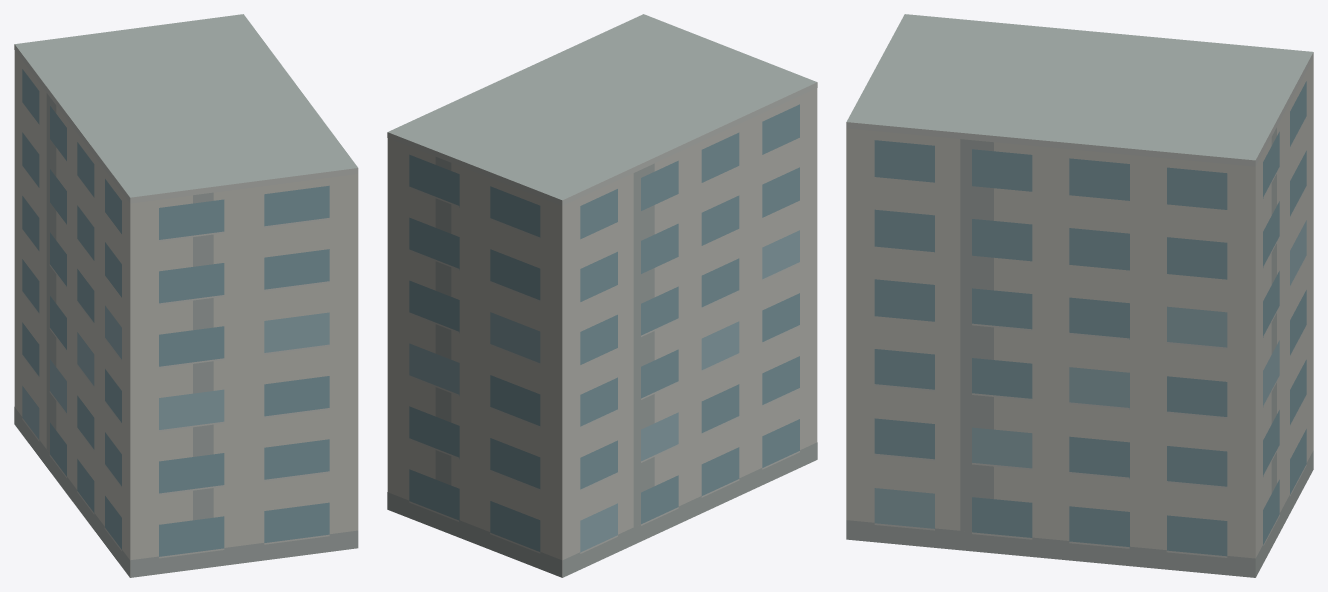
Rendered from survey-upis-32891693.glb.
The picture shows the model from 3 angles, left to right: view 1: azimuth 30°, elevation 25°; view 2: azimuth 150°, elevation 25°; view 3: azimuth 270°, elevation 25°; orthographic projection. The views are drawn at different scales.
Parts seen in each view (by area): view 1: survey-upis-32891693.tmp; view 2: survey-upis-32891693.tmp; view 3: survey-upis-32891693.tmp.
Boxes of the visible parts, x1,y1,x2,y2 form: survey-upis-32891693.tmp: (14, 14, 358, 577); survey-upis-32891693.tmp: (387, 14, 817, 577); survey-upis-32891693.tmp: (846, 14, 1313, 577).
Size of the model in its own units: 12.07 by 16.03 by 16.27.
